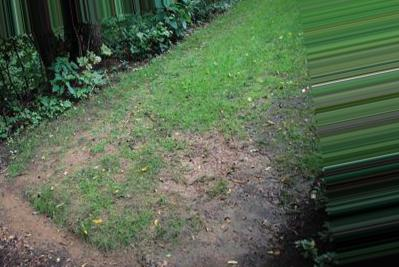patch: (187, 137, 273, 246), (6, 188, 106, 267), (101, 179, 194, 246), (57, 137, 108, 167)
